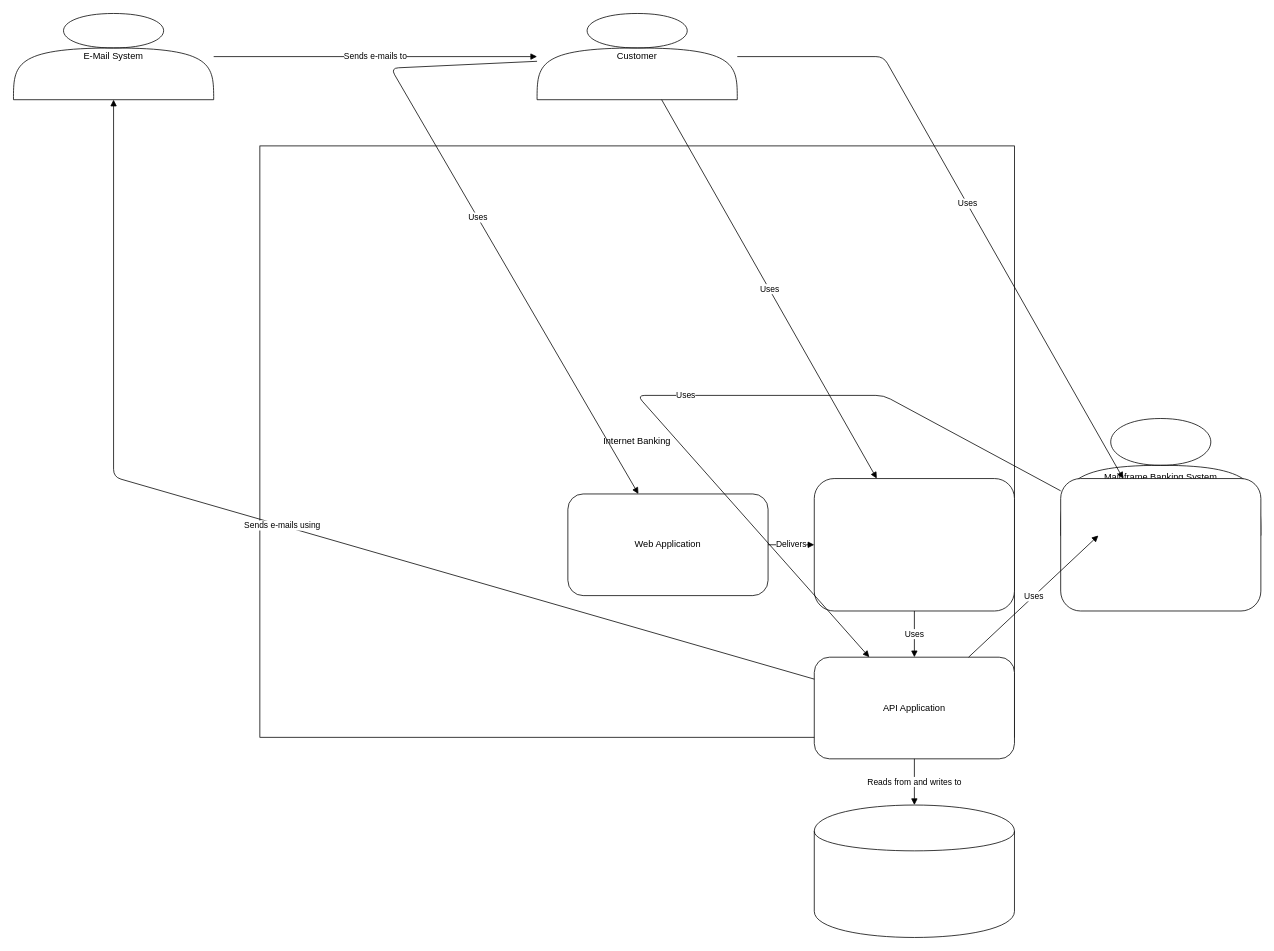
Some shapes in this 1274 by 951 pixel diagram are drawn without their labels. Each missing label, with the centre of its shape:
Database: [914,870]
Mobile App: [1160,544]
Single-Page App: [914,544]
